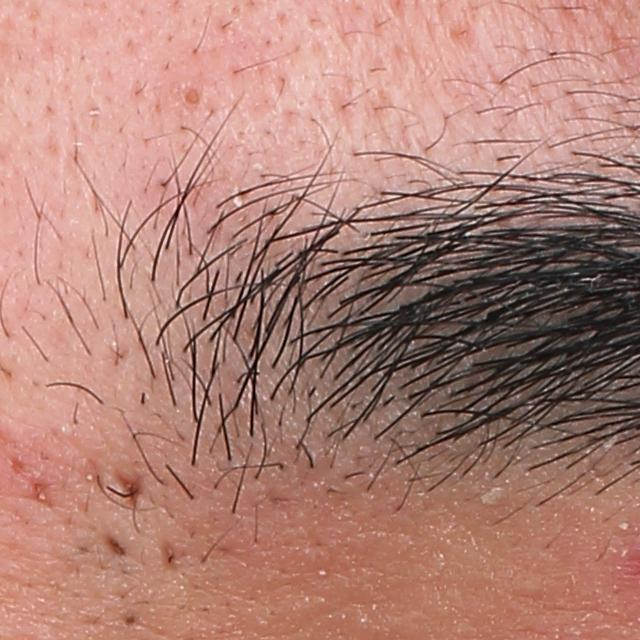comedo: (174, 81, 205, 111), (124, 612, 139, 629)
